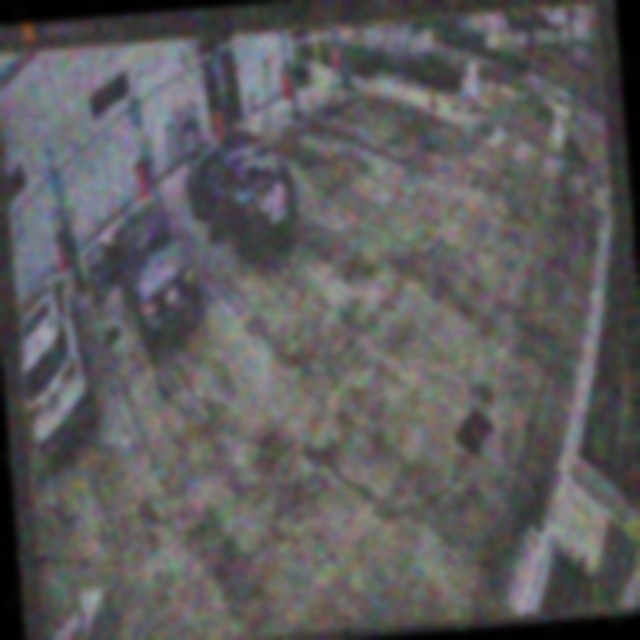Car: (83, 195, 204, 349), (182, 125, 301, 258)
